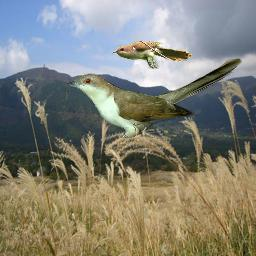Cuckoo: (65, 57, 242, 138), (112, 41, 193, 69)
